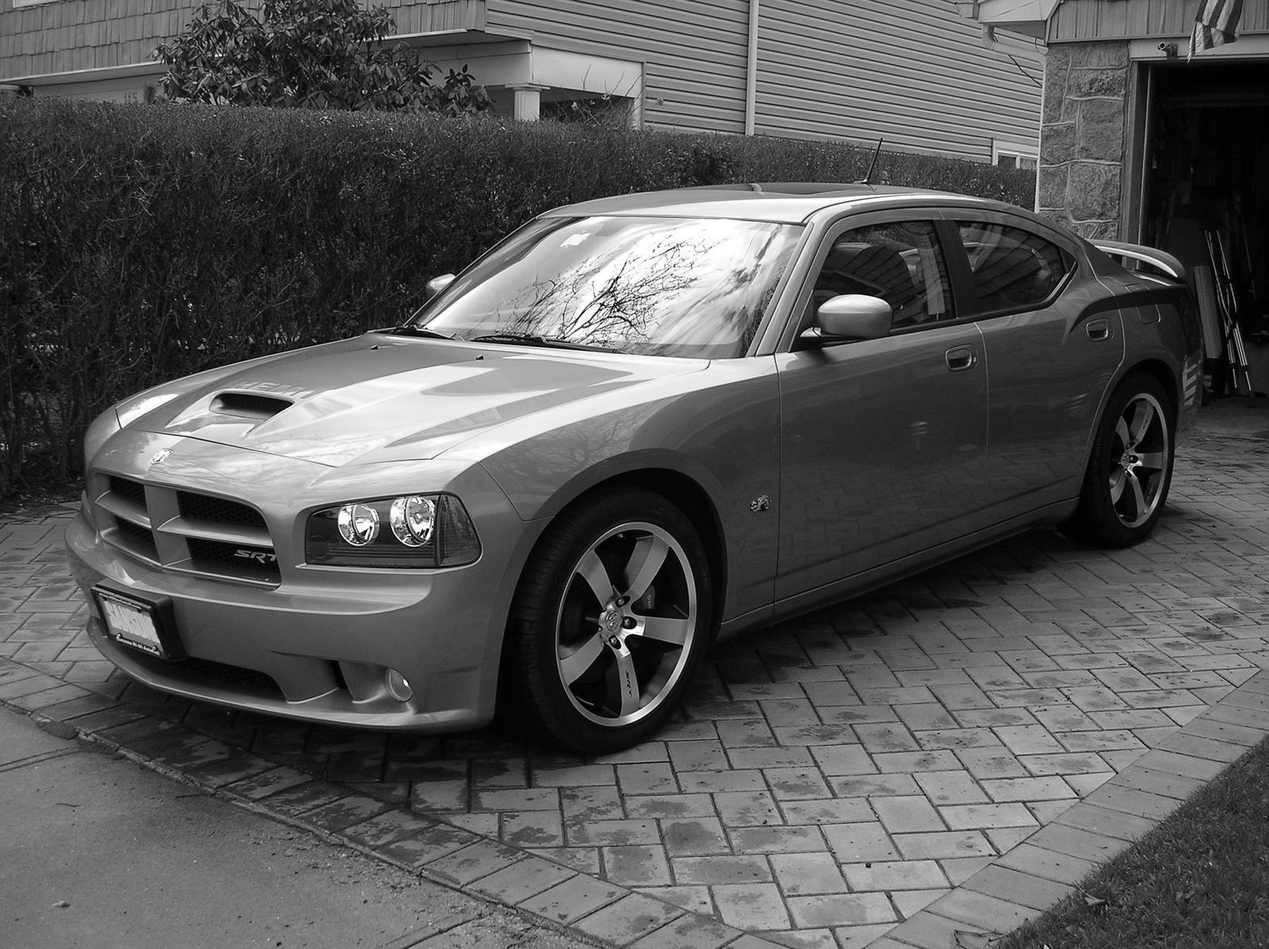car: (72, 195, 1189, 751)
